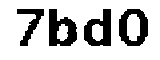0: (117, 5, 151, 48)
7: (10, 5, 45, 49)
b: (45, 6, 80, 50)
d: (82, 5, 116, 51)
